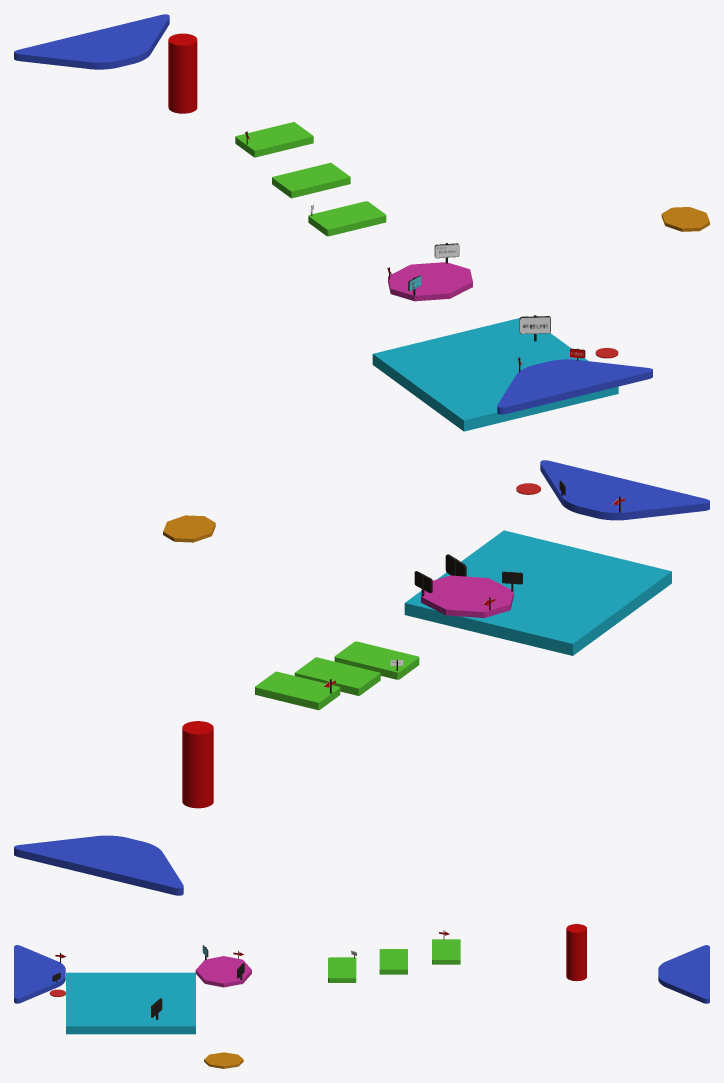
The model's file is Stage2(Base).obj.
The picture shows the model from 3 angles, top to bottom: view 1: azimuth 30°, elevation 25°; view 2: azimuth 150°, elevation 25°; view 3: azimuth 270°, elevation 25°; orthographic projection. The views are drawn at different scales.
Parts seen in each view (by area): view 1: 立方体.001, 立方体.029, 立方体, 立方体.007, 円柱, 立方体.003, 立方体.002, 立方体.004, 立方体.036; view 2: 立方体.001, 立方体.029, 立方体, 立方体.007, 円柱, 立方体.004, 立方体.002, 立方体.003, 立方体.036; view 3: 立方体.001, 立方体.029, 立方体, 立方体.007, 円柱, 立方体.003, 立方体.004, 立方体.002, 立方体.036.
Boxes of the visible parts, x1,y1,x2,y2 form: 立方体.001: (372,316,618,431); 立方体.029: (14,14,169,69); 立方体: (497,359,652,414); 立方体.007: (388,262,472,301); 円柱: (168,33,197,113); 立方体.003: (272,162,350,198); 立方体.002: (308,201,386,236); 立方体.004: (235,122,313,157); 立方体.036: (661,207,709,231); 立方体.001: (404,530,671,655); 立方体.029: (14,835,183,895); 立方体: (540,460,709,520); 立方体.007: (421,575,513,617); 円柱: (182,721,213,808); 立方体.004: (255,671,340,710); 立方体.002: (334,641,419,679); 立方体.003: (294,657,380,695); 立方体.036: (163,515,215,542); 立方体.001: (66,972,195,1034); 立方体.029: (658,945,709,1003); 立方体: (14,945,65,1003); 立方体.007: (195,956,251,987); 円柱: (566,924,586,981); 立方体.003: (379,949,407,974); 立方体.004: (432,939,460,964); 立方体.002: (328,957,356,982); 立方体.036: (204,1052,243,1068).
Bounding box in the file's own units: 167 × 50.09 × 400.
